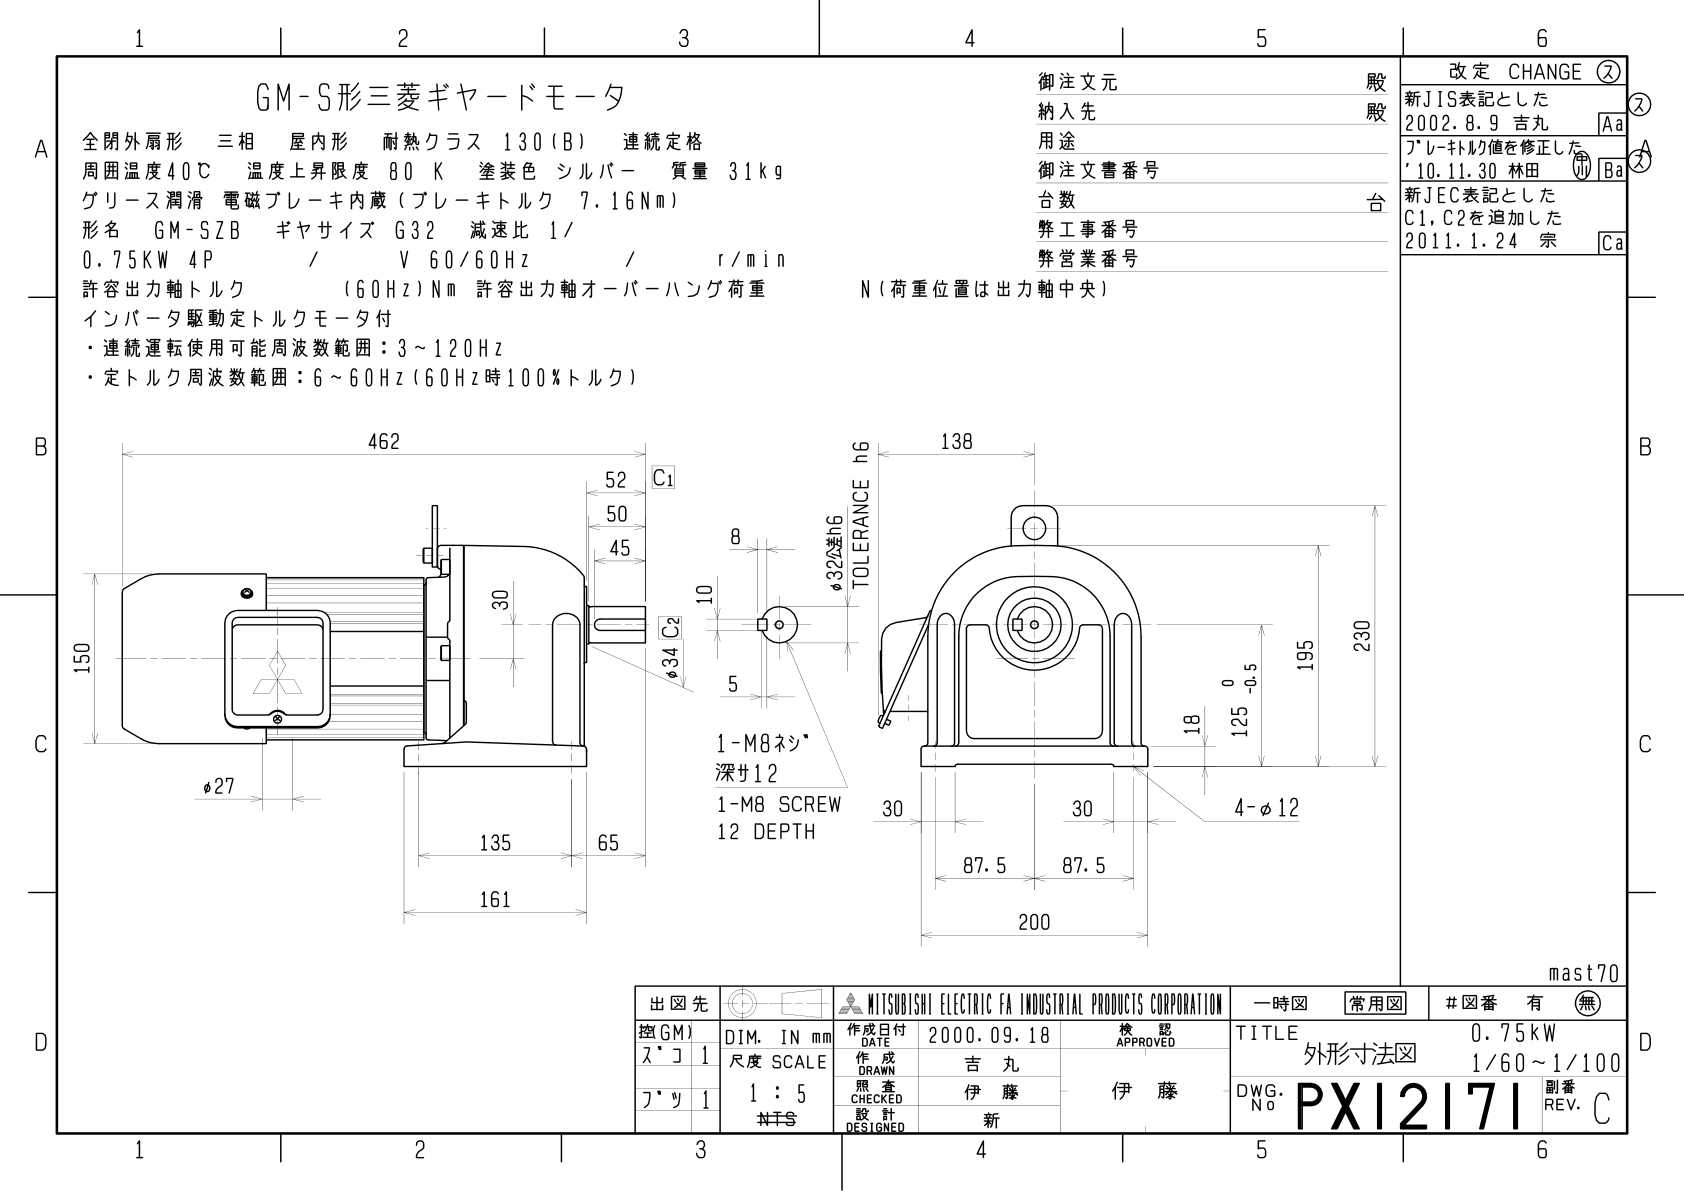GM_S_インバタ屋外＿三相_脚: (64, 403, 1393, 967)
